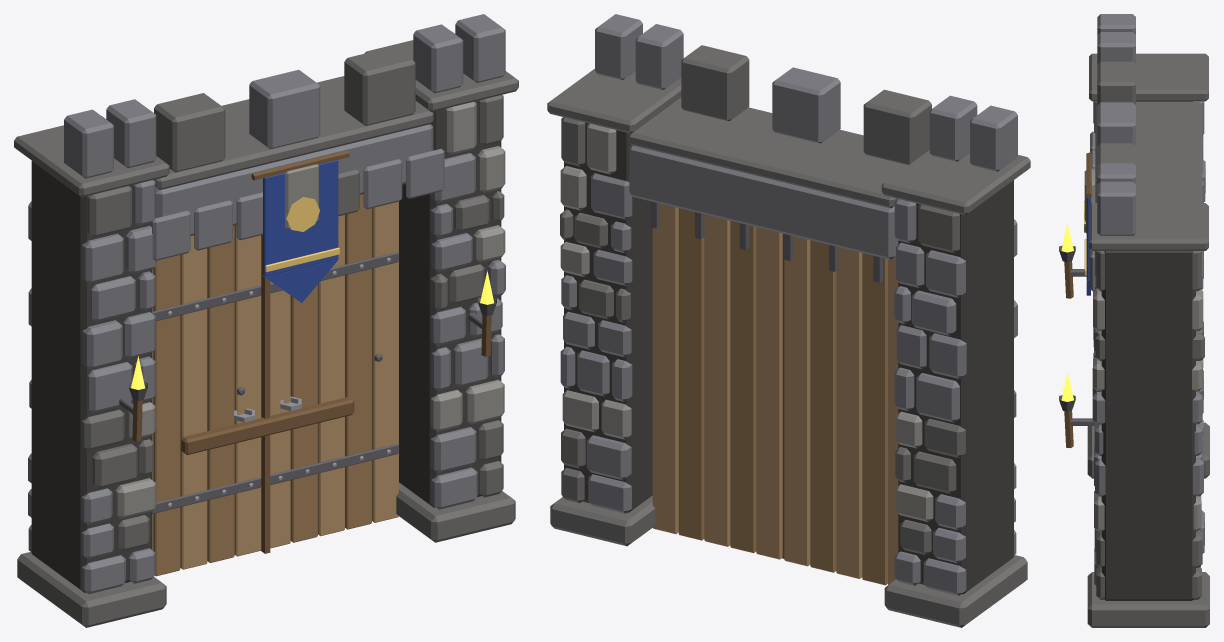
File: gate_3.glb
3 renders of one model, left to right at view 1: azimuth 30°, elevation 25°; view 2: azimuth 150°, elevation 25°; view 3: azimuth 270°, elevation 25°, orthographic. The views are drawn at different scales.
Parts seen in each view (by area): view 1: Gate; view 2: Gate; view 3: Gate.
Part boxes in pixels (x1,y1,x2,y2): Gate: (14, 14, 518, 627); Gate: (547, 14, 1030, 627); Gate: (1059, 14, 1209, 627).
Bounding box in the file's own units: 4.16 × 4.46 × 1.41.
